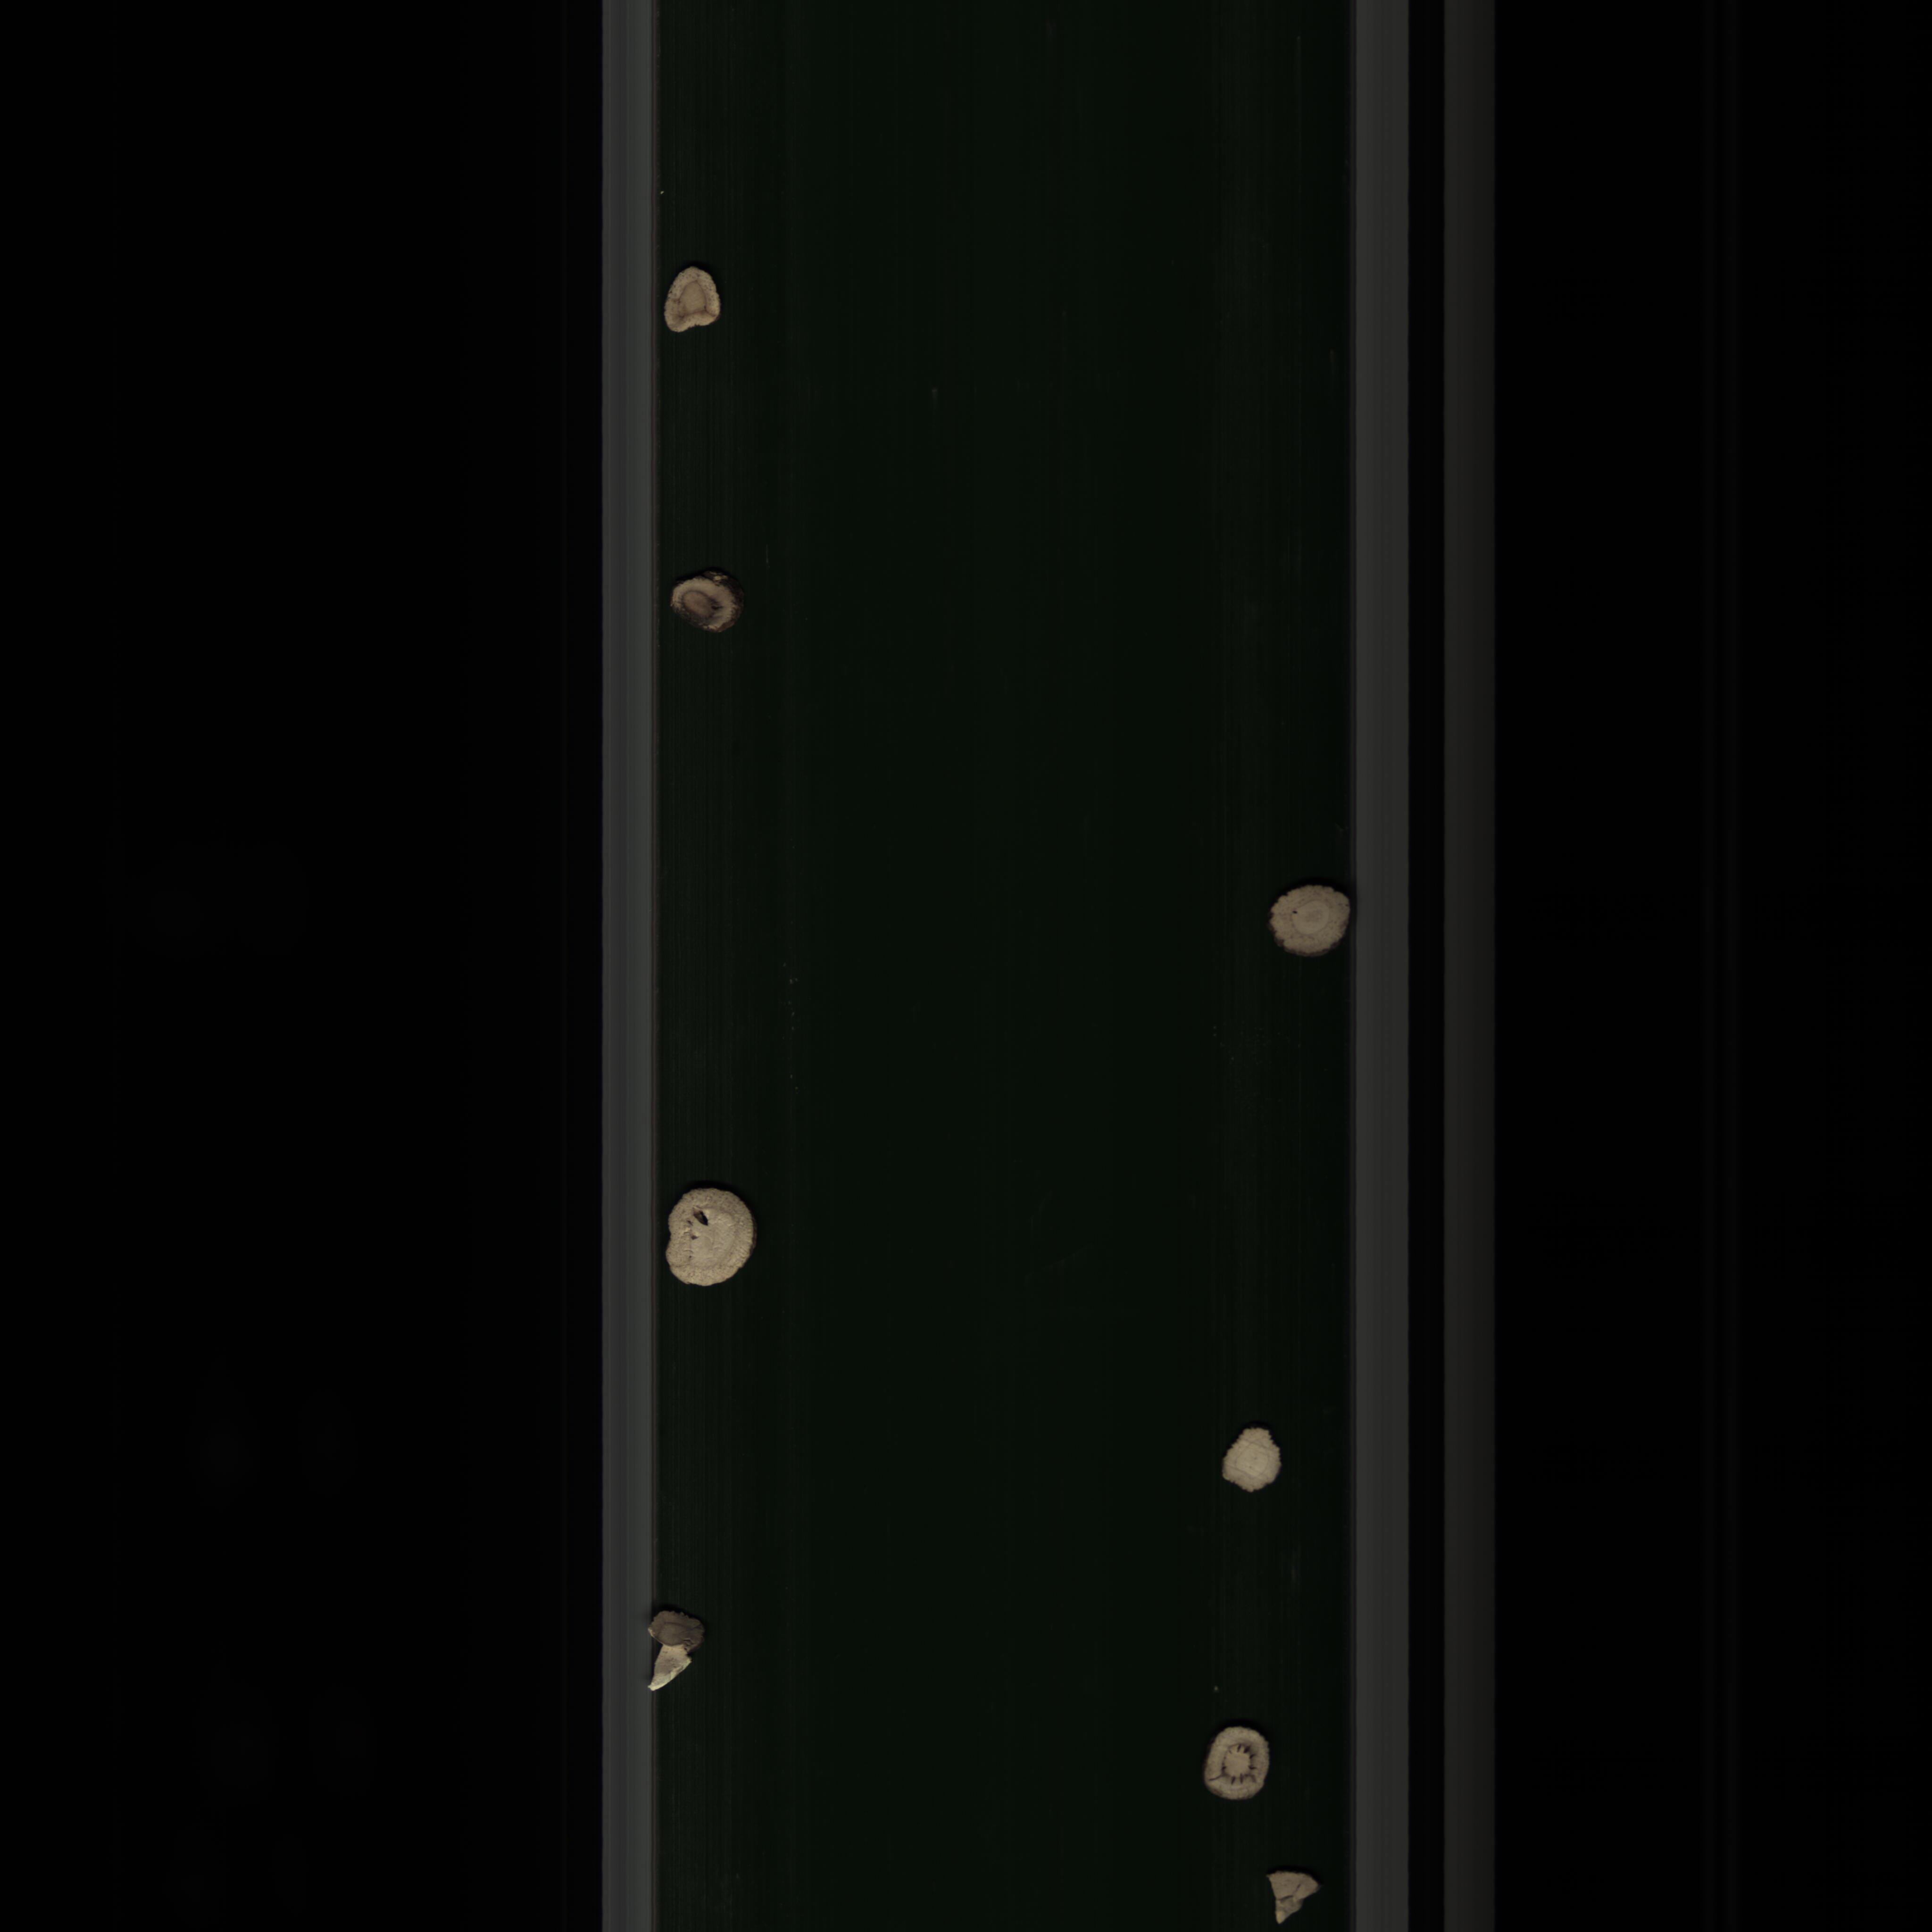debris: (639, 1601, 718, 1702), (1212, 1419, 1288, 1506), (1253, 1863, 1322, 1930)
hole: (649, 1162, 768, 1299), (1192, 1695, 1292, 1824)
moldy: (663, 552, 766, 651), (655, 258, 727, 338)
